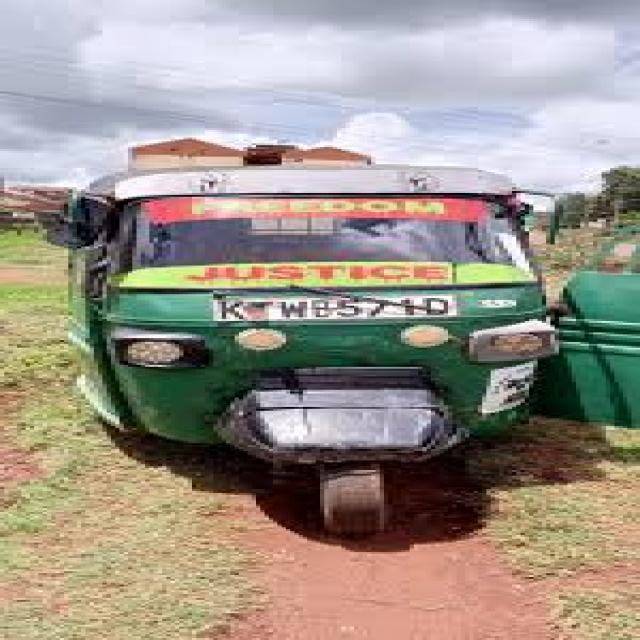tuktuk: (8, 71, 640, 568)
